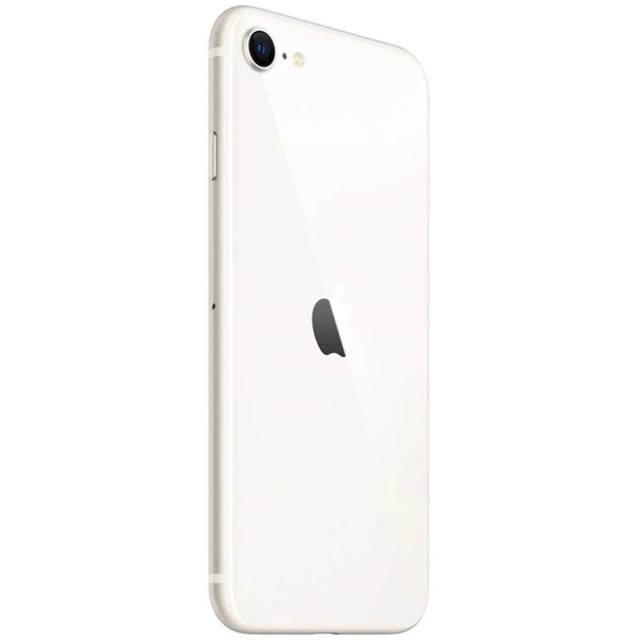mobile phone: (206, 5, 430, 634)
